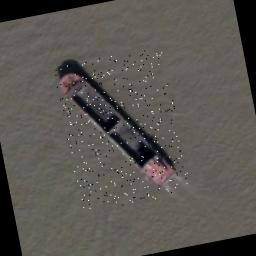boat: (58, 63, 188, 197)
